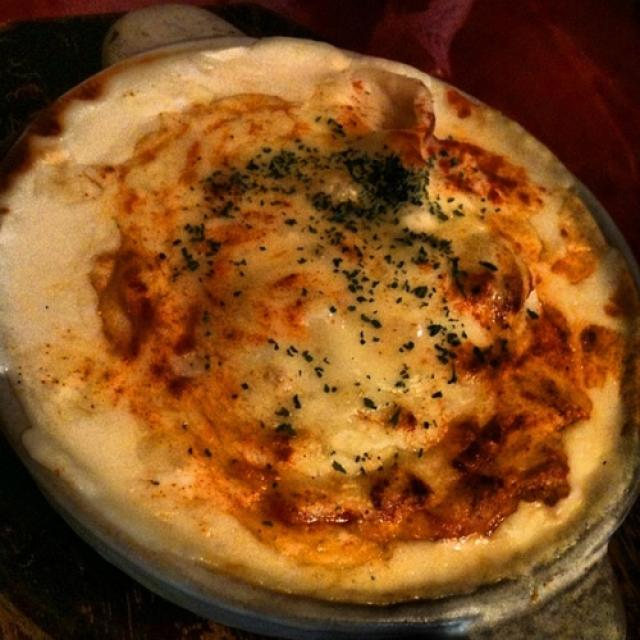米饭主食: (21, 42, 620, 621)
